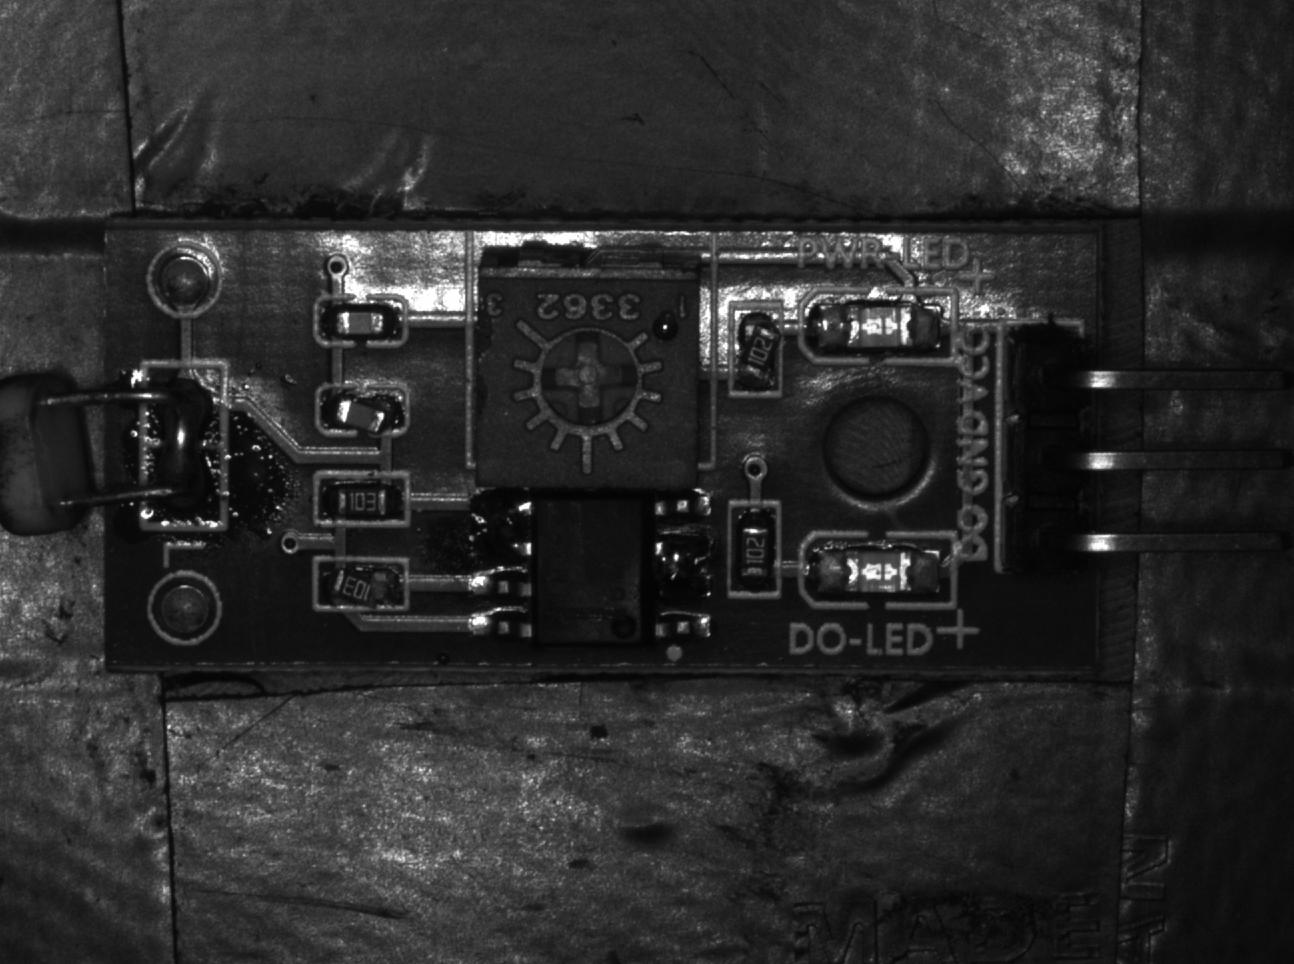bridge: (143, 361, 226, 536), (461, 491, 535, 563), (654, 524, 709, 610)
lifted: (317, 382, 413, 438), (313, 555, 408, 611), (732, 304, 780, 392)
ok: (312, 470, 411, 529), (727, 501, 778, 596), (315, 296, 409, 346)
